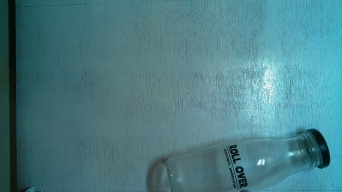f: (159, 119, 334, 192)
